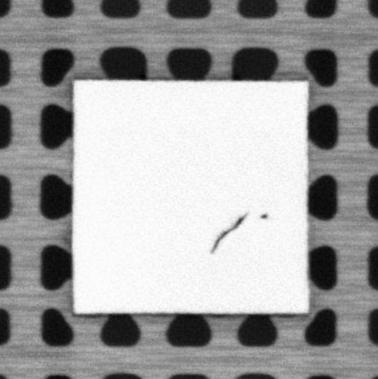DIE_INK: (211, 212, 250, 254), (258, 210, 269, 220)
